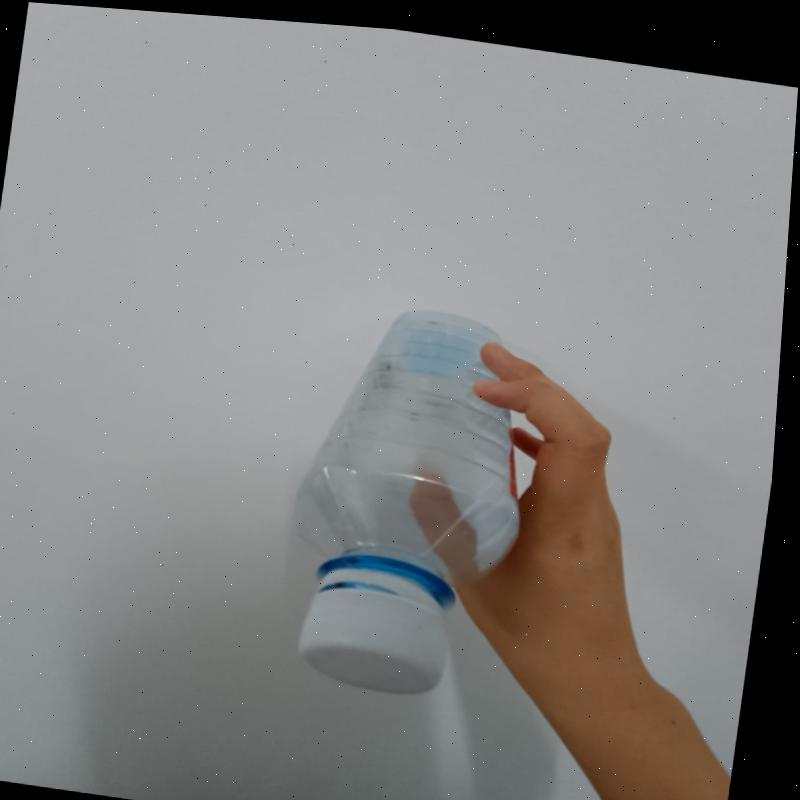botella: (263, 279, 550, 708)
